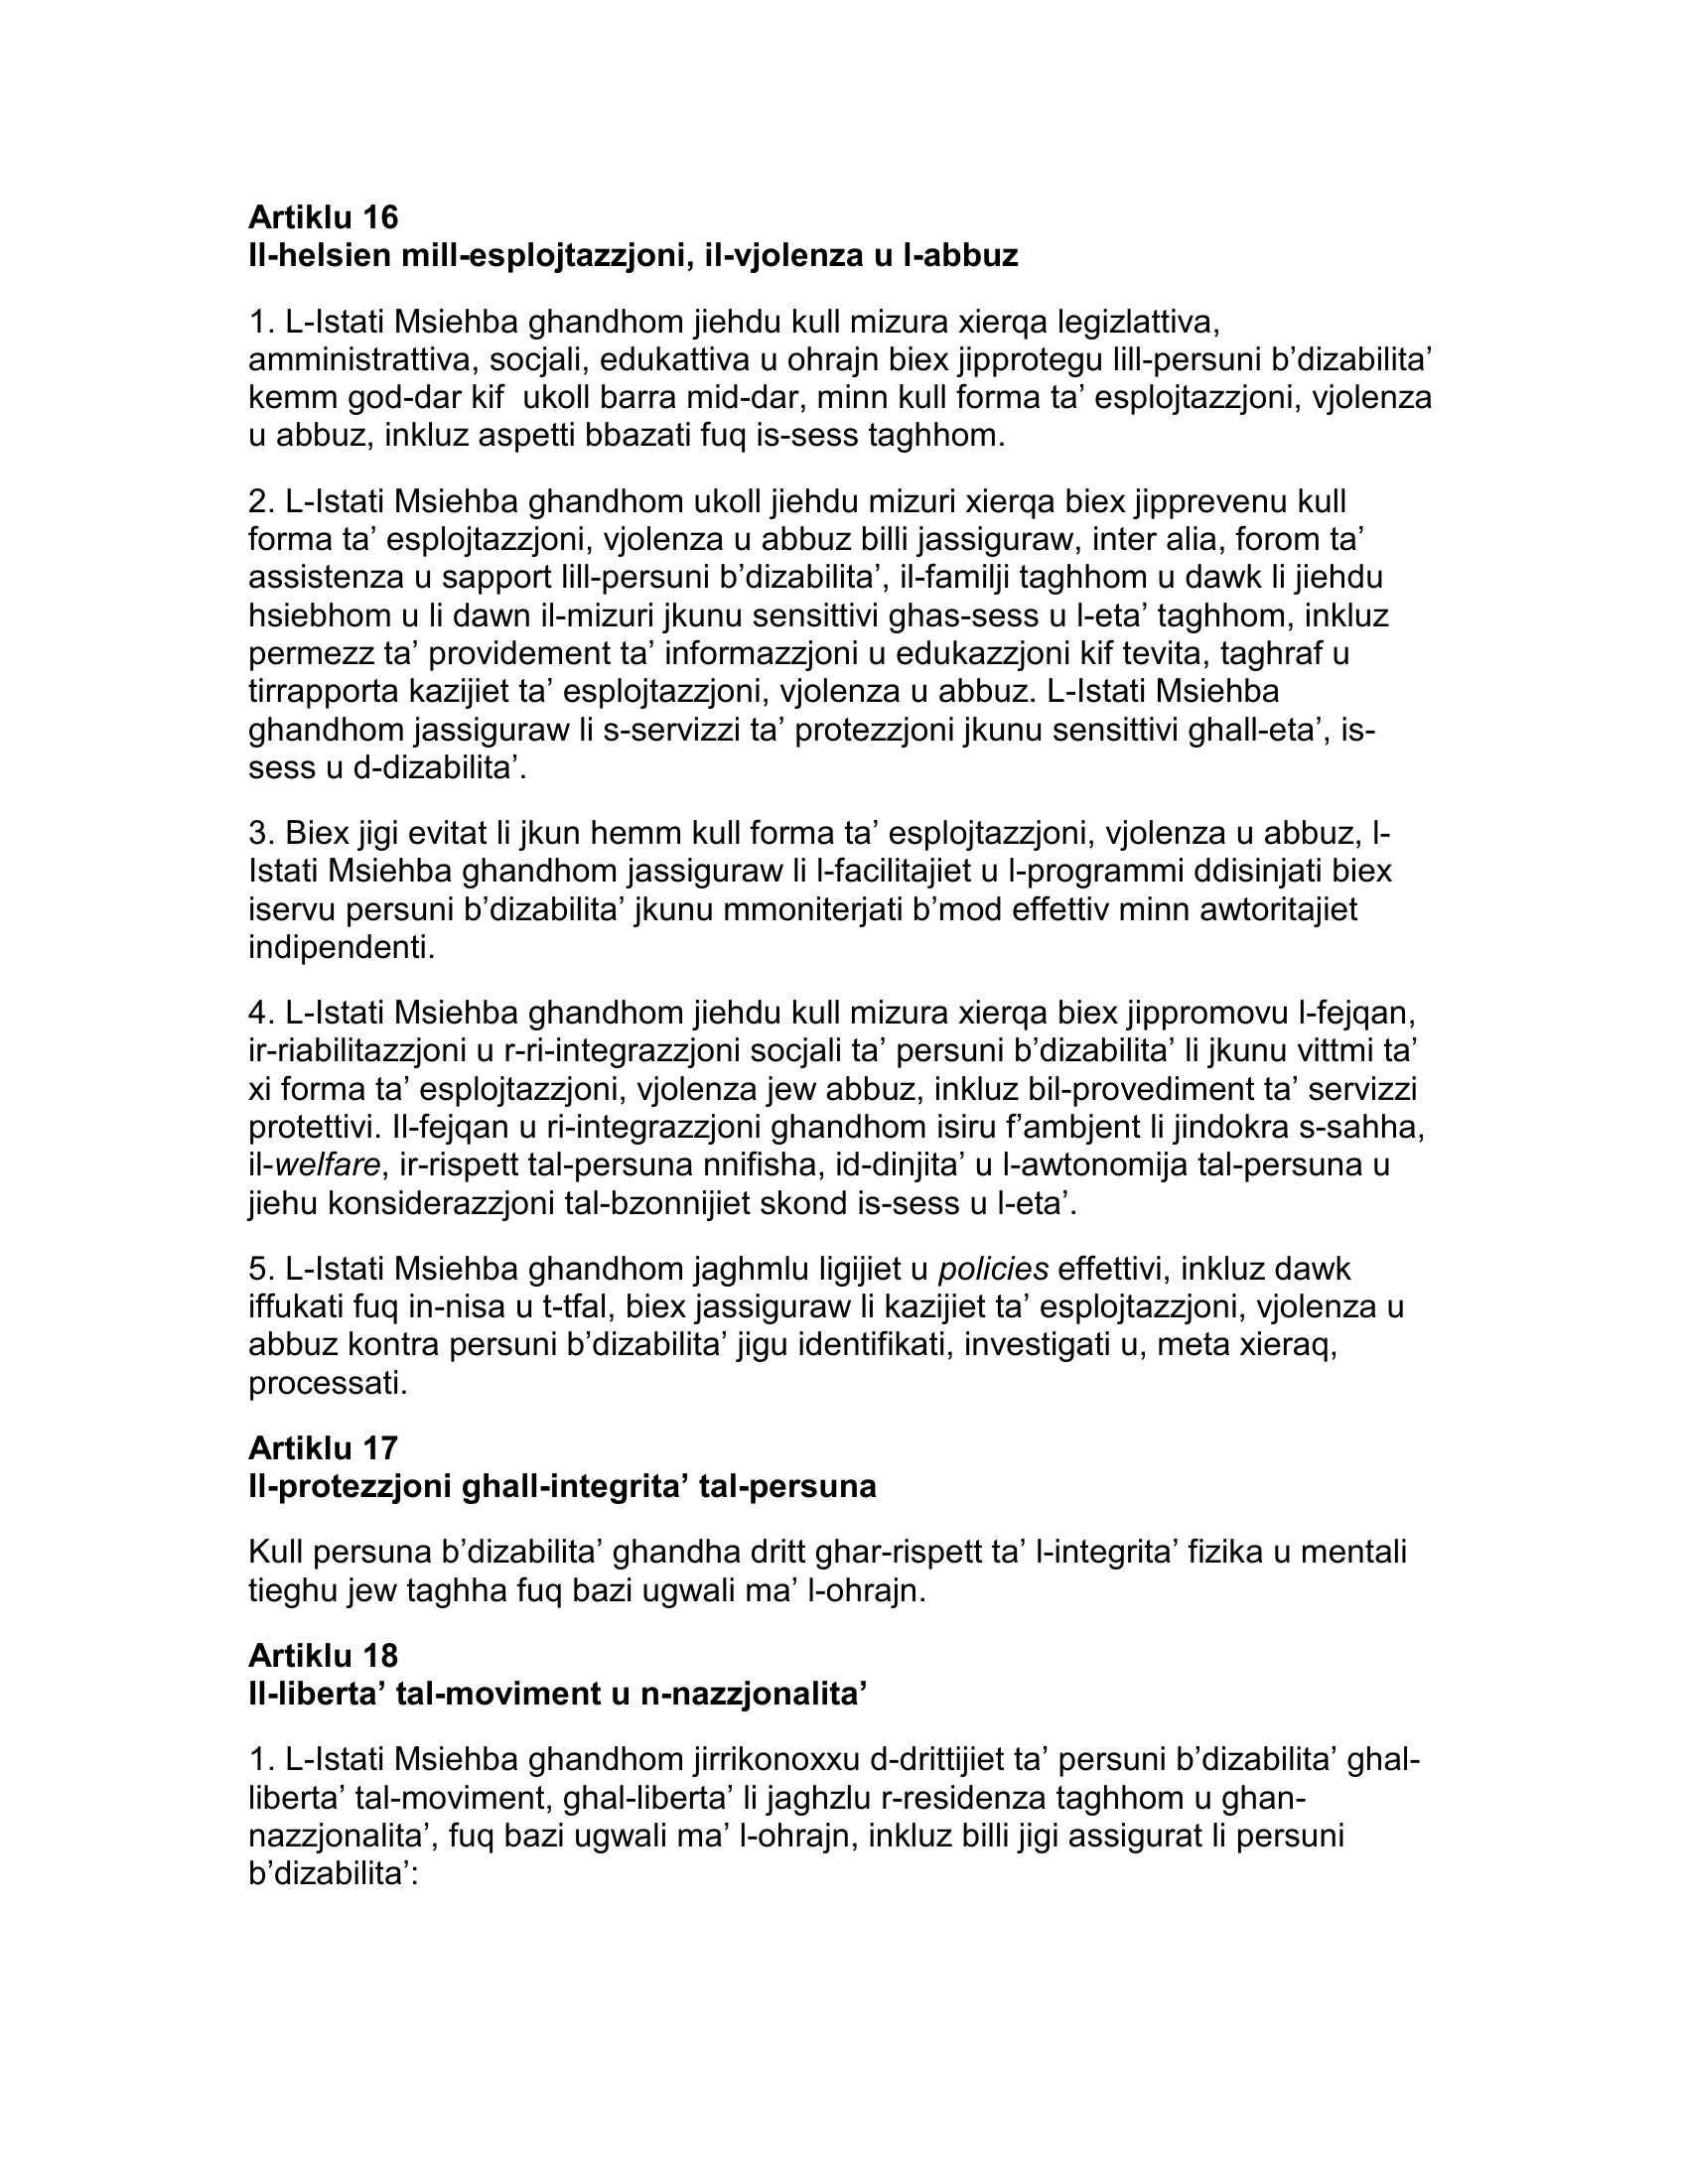text: (216, 186, 1461, 1916)
